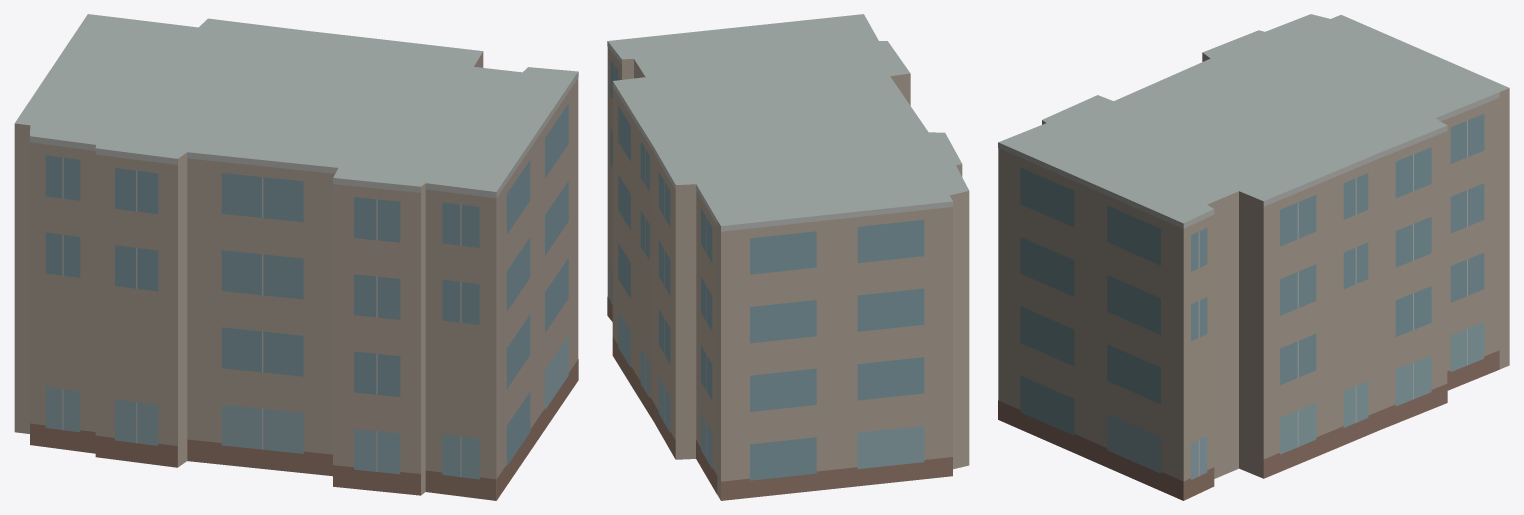
File: survey-upis-32814416.glb
3 renders of one model, left to right at view 1: azimuth 30°, elevation 25°; view 2: azimuth 150°, elevation 25°; view 3: azimuth 270°, elevation 25°, orthographic. The views are drawn at different scales.
Visible parts, largest first — view 1: survey-upis-32814416.tmp; view 2: survey-upis-32814416.tmp; view 3: survey-upis-32814416.tmp.
Part boxes in pixels (x1=…): survey-upis-32814416.tmp: x1=14, y1=14, x2=578, y2=500; survey-upis-32814416.tmp: x1=607, y1=14, x2=969, y2=500; survey-upis-32814416.tmp: x1=998, y1=14, x2=1509, y2=500.
Size of the model in its own units: 19.76 by 12.2 by 20.39.
